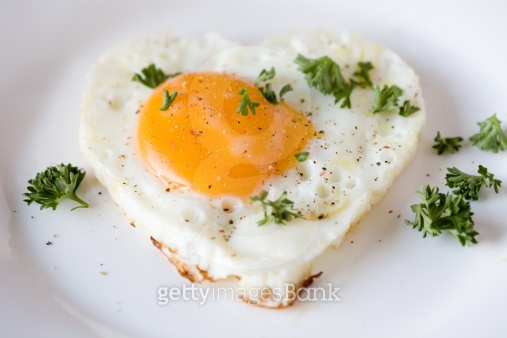fried egg: (89, 26, 419, 277)
